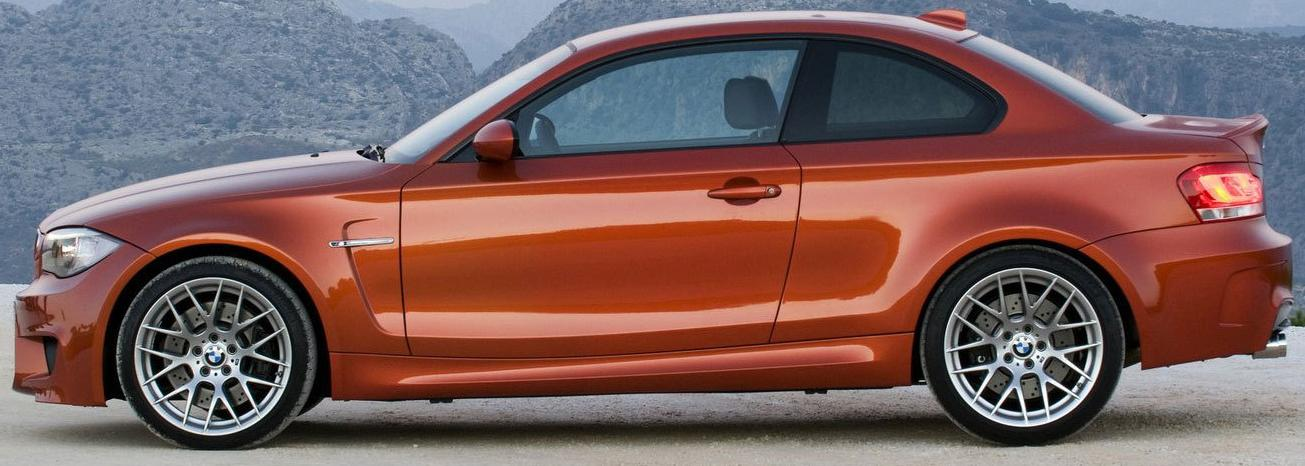backlight: (1167, 149, 1279, 224)
headlight: (36, 221, 123, 275)
side_glass: (441, 36, 1016, 161)
